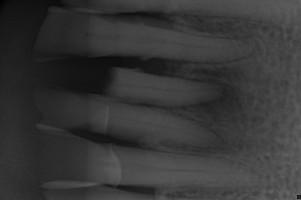Furcation Involvement: (161, 121, 249, 156), (192, 78, 240, 118)
